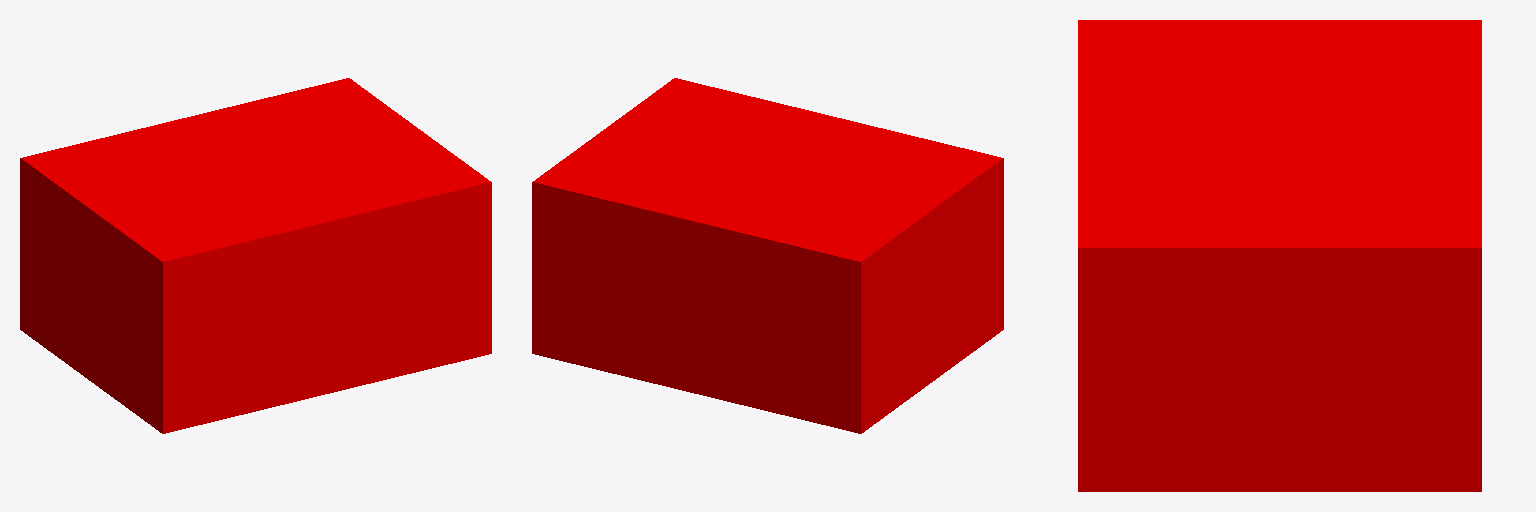
URDF robot description (link_material_visual_def):
<?xml version="1.0"?>
<robot name="link_material_visual_def">
    <link name="base_link">
        <visual>
            <geometry>
                <box size="0.4 0.3 0.2"/>
            </geometry>
            <material name="blue">
                <!--<color rgba="0.1 0.1 1.0 1.0"/>-->
                <!--<color rgba="1 0.0 0.0 1.0"/>-->
                <color rgba="1 0.0 0.0 0.1"/>
            </material>
        </visual>
    </link>
</robot>

--- What the picture shows (computed from the rendered views, not written in the file) ---
The picture shows the robot from 3 angles, left to right: view 1: azimuth 30°, elevation 25°; view 2: azimuth 150°, elevation 25°; view 3: azimuth 270°, elevation 25°; orthographic projection.
Robot: link_material_visual_def — 1 links, 0 joints (none); root link base_link; default pose: all joints at 0.
Visible links, largest first — view 1: base_link; view 2: base_link; view 3: base_link.
Link boxes in pixels (bbox=[...]): base_link: bbox=[20, 78, 491, 433]; base_link: bbox=[532, 78, 1003, 433]; base_link: bbox=[1078, 20, 1481, 491].
Size in the robot's own frame: 0.4 by 0.3 by 0.2 metres.
Geometry: primitives only (box / cylinder / sphere), no mesh files.
